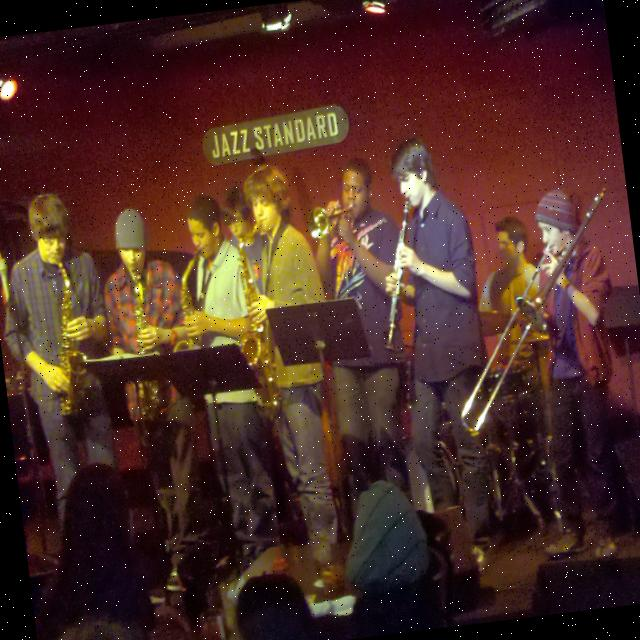clarinet: (364, 196, 434, 358)
drums: (384, 294, 572, 552)
saxophone: (226, 216, 294, 421), (35, 249, 96, 420), (120, 258, 170, 434), (160, 243, 222, 352)
